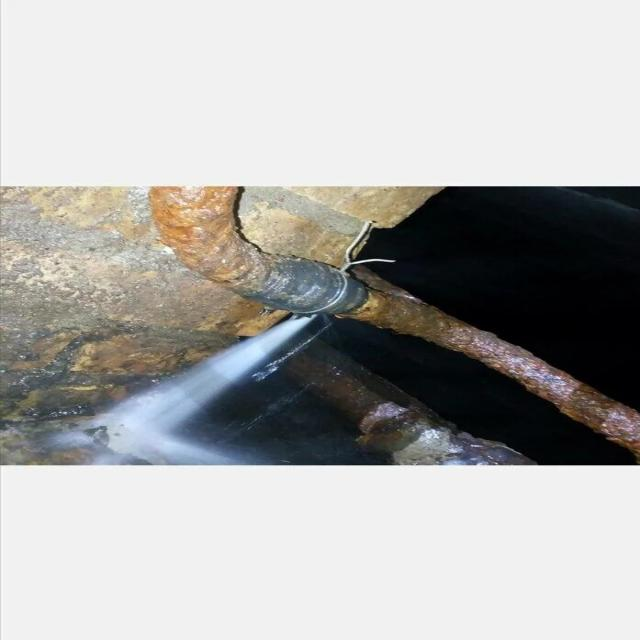leak: (65, 311, 325, 461)
